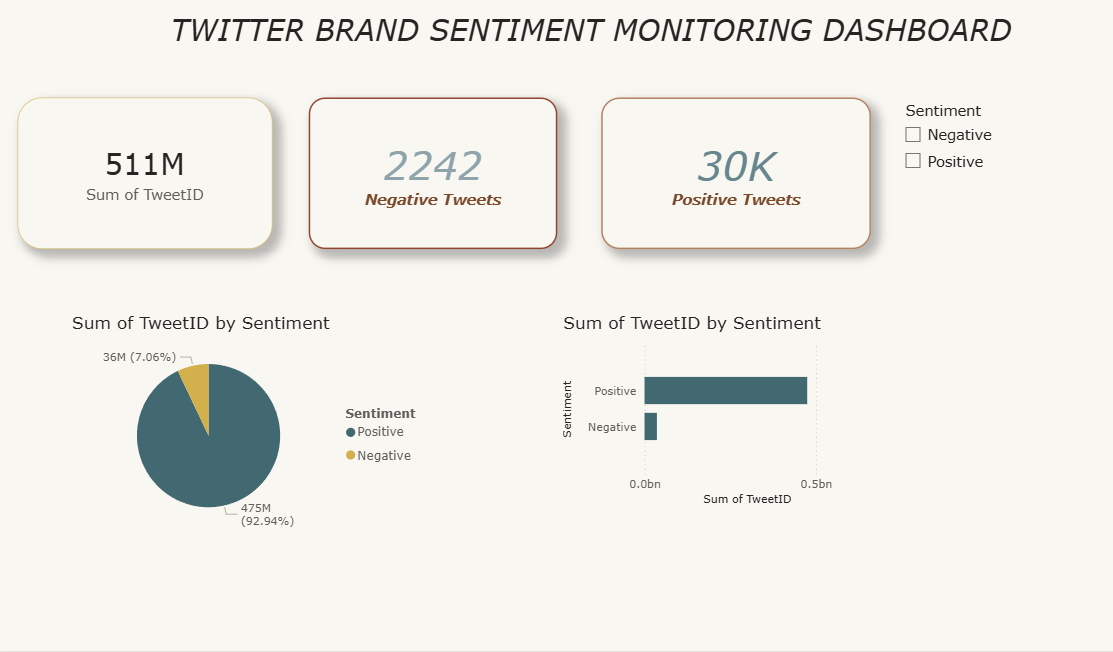

The page's visual inventory and layout, read from the dashboard file:
{"tool":"powerbi","page":{"name":"Summary","canvas":[1280,720],"ordinal":0},"visuals":[{"type":"card","fields":{"Values":["Sum(clean_twitter_data.TweetID)"]},"box":[24.7,112.5,279.9,166],"z":0},{"type":"pieChart","fields":{"Category":["clean_twitter_data.Sentiment"],"Y":["Sum(clean_twitter_data.TweetID)"]},"box":[79.6,348.5,402.1,248.4],"z":1},{"type":"clusteredBarChart","fields":{"Category":["clean_twitter_data.Sentiment"],"Y":["Sum(clean_twitter_data.TweetID)"]},"box":[618.9,348.5,343.1,216.8],"z":2},{"type":"slicer","fields":{"Values":["clean_twitter_data.Sentiment"]},"box":[986.6,112.5,279.9,166],"z":3},{"type":"card","fields":{"Values":["clean_twitter_data.Positive Tweets"]},"box":[665.5,112.5,296.4,166],"z":4},{"type":"card","fields":{"Values":["clean_twitter_data.Negative Tweets"]},"box":[344.4,112.5,273.1,166],"z":5},{"type":"textbox","box":[188,13.7,1060.7,67.2],"z":6}]}

Visuals, with their boxes on the page's 1280x720 design canvas (x1, y1, x2, y2). These are canvas units, not pixel positions in the 1113x652 screenshot, which may show the page scaled, cropped or inside an application window:
card - Sum(clean_twitter_data.TweetID): l=25, t=112, r=305, b=278
pieChart - clean_twitter_data.Sentiment x Sum(clean_twitter_data.TweetID): l=80, t=348, r=482, b=597
clusteredBarChart - clean_twitter_data.Sentiment x Sum(clean_twitter_data.TweetID): l=619, t=348, r=962, b=565
slicer - clean_twitter_data.Sentiment: l=987, t=112, r=1266, b=278
card - clean_twitter_data.Positive Tweets: l=666, t=112, r=962, b=278
card - clean_twitter_data.Negative Tweets: l=344, t=112, r=618, b=278
textbox: l=188, t=14, r=1249, b=81
